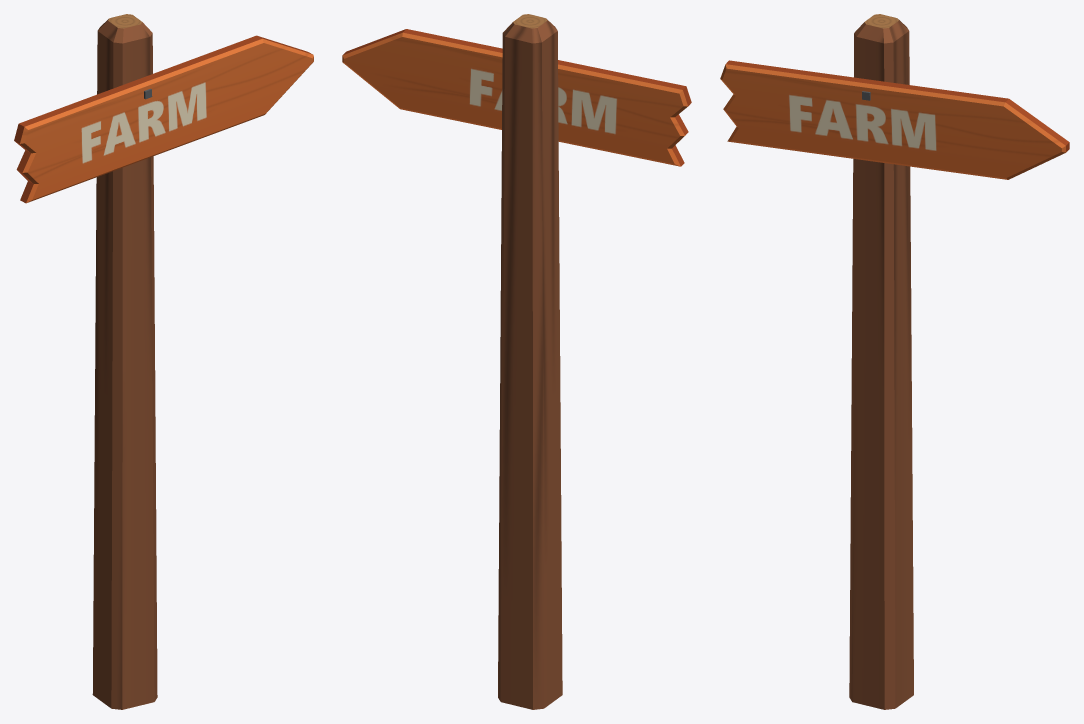
Rendered from FMS_Deco_Signpost_Single.fbx.
3 views of the same model, side by side, from view 1: azimuth 30°, elevation 25°; view 2: azimuth 150°, elevation 25°; view 3: azimuth 330°, elevation 25° (orthographic).
Parts seen in each view (by area): view 1: item_decor_signpost_single; view 2: item_decor_signpost_single; view 3: item_decor_signpost_single.
Part boxes in pixels (x1=…): item_decor_signpost_single: x1=14, y1=14, x2=313, y2=709; item_decor_signpost_single: x1=342, y1=14, x2=691, y2=709; item_decor_signpost_single: x1=720, y1=14, x2=1069, y2=709.
Size of the model in its own units: 0.6972 by 1.4 by 0.1608.
